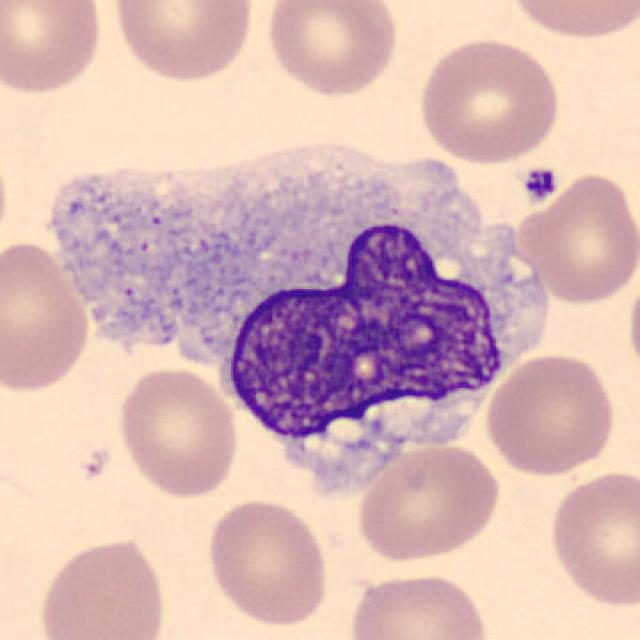Monocyte: (44, 119, 554, 491)
Platelets: (519, 162, 560, 206)
RBC: (414, 34, 564, 165), (352, 437, 505, 564), (480, 349, 619, 478), (514, 167, 638, 307), (114, 365, 242, 499), (205, 496, 332, 630), (34, 532, 170, 640), (0, 236, 92, 394), (261, 0, 402, 99), (544, 465, 638, 610), (108, 0, 260, 85), (343, 569, 491, 640), (0, 0, 107, 97), (501, 0, 638, 42), (626, 261, 640, 386), (0, 139, 12, 264)
